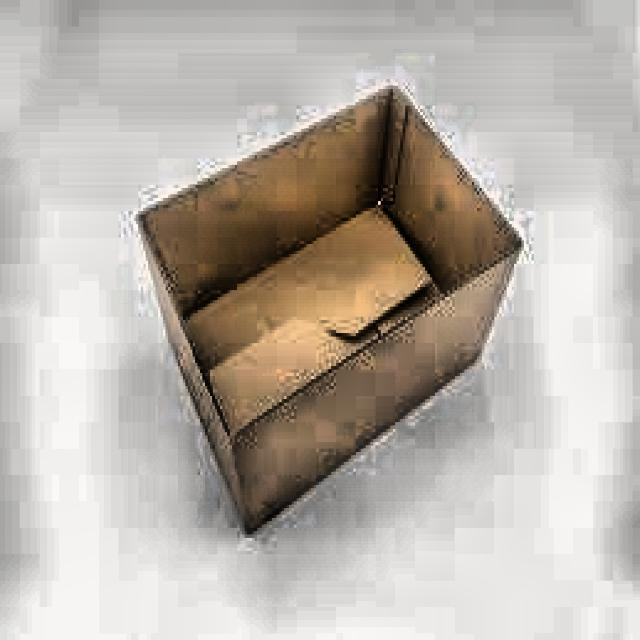cardboard: (134, 82, 522, 534)
